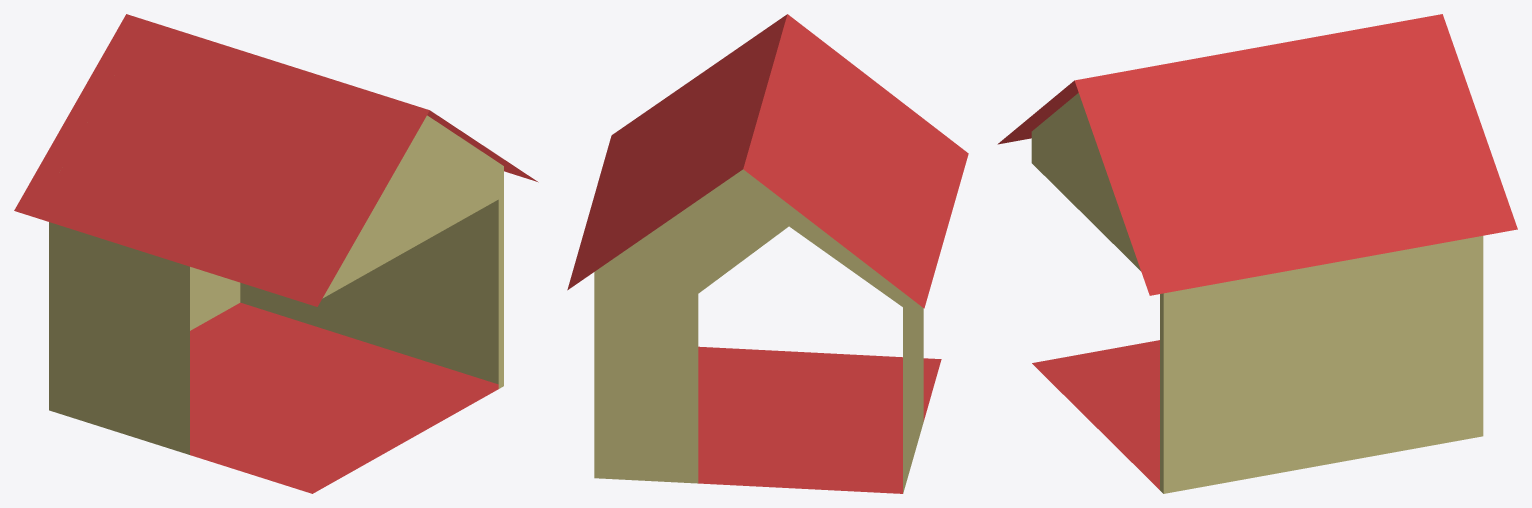
3 renders of one model, left to right at view 1: azimuth 30°, elevation 25°; view 2: azimuth 150°, elevation 25°; view 3: azimuth 270°, elevation 25°, orthographic. The views are drawn at different scales.
Bounding box in the file's own units: 14.65 × 14.82 × 11.1.
